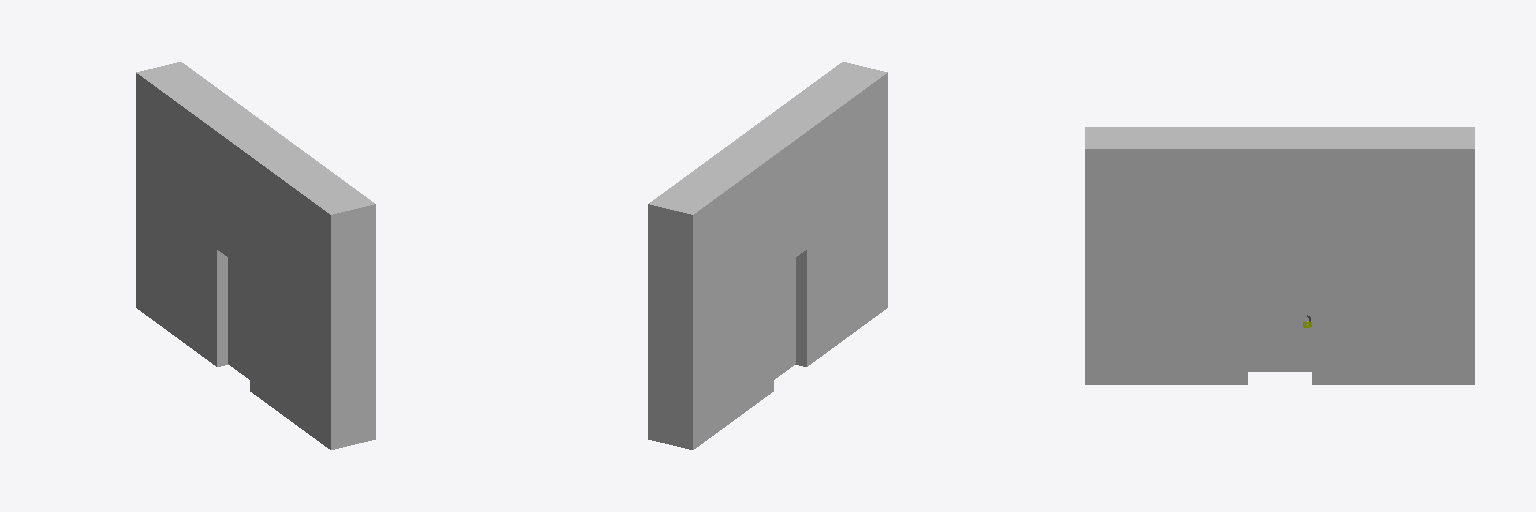
Rendered from pintu.obj.
3 views of the same model, side by side, from view 1: azimuth 30°, elevation 25°; view 2: azimuth 150°, elevation 25°; view 3: azimuth 270°, elevation 25° (orthographic).
Parts seen in each view (by area): view 1: Dinding.001_Cube, boolean_jaring-jaring_Cube.012; view 2: Dinding.001_Cube, boolean_jaring-jaring_Cube.012; view 3: Dinding.001_Cube, boolean_jaring-jaring_Cube.012, pintu_Cube.011.
Part boxes in pixels (bbox=[...]): Dinding.001_Cube: bbox=[136, 62, 375, 449]; boolean_jaring-jaring_Cube.012: bbox=[229, 259, 249, 371]; Dinding.001_Cube: bbox=[648, 62, 887, 449]; boolean_jaring-jaring_Cube.012: bbox=[774, 259, 794, 371]; Dinding.001_Cube: bbox=[1085, 127, 1474, 384]; boolean_jaring-jaring_Cube.012: bbox=[1253, 267, 1306, 363]; pintu_Cube.011: bbox=[1248, 267, 1311, 371].
Size of the model in its own units: 0.4 by 2 by 3.